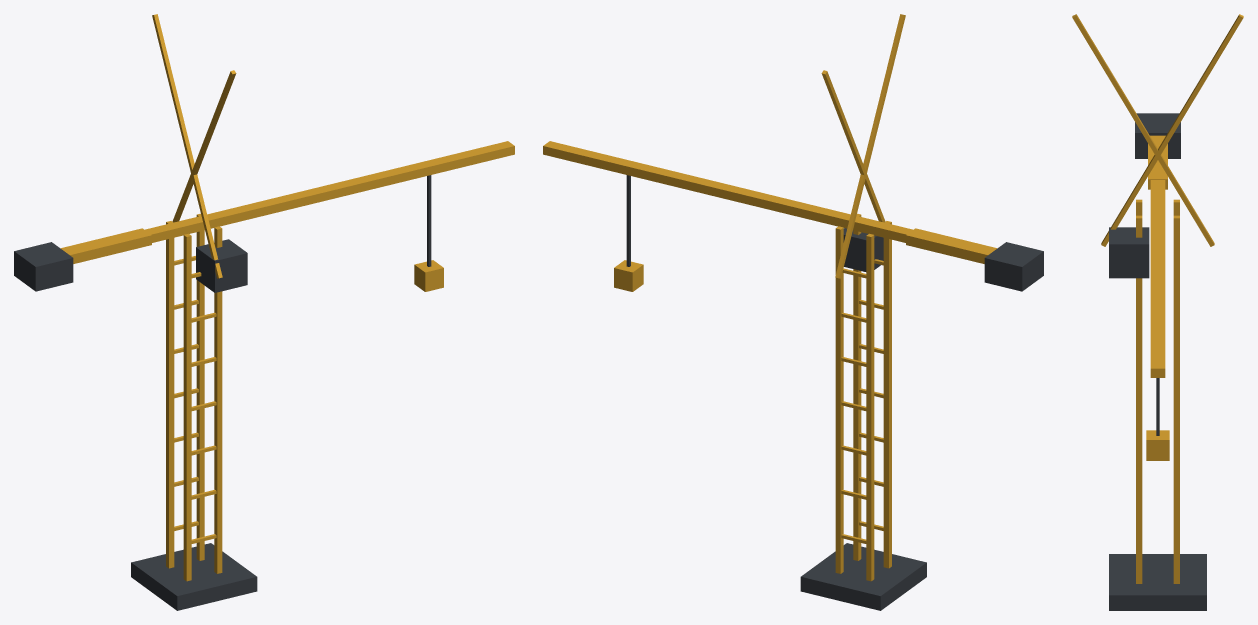
The model's file is crane.gltf.
The picture shows the model from 3 angles, left to right: view 1: azimuth 30°, elevation 25°; view 2: azimuth 150°, elevation 25°; view 3: azimuth 270°, elevation 25°; orthographic projection. The views are drawn at different scales.
Visible parts, largest first — view 1: crane; view 2: crane; view 3: crane.
Boxes of the visible parts, x1,y1,x2,y2 form: crane: (14,14,514,610); crane: (543,14,1043,610); crane: (1072,14,1243,610).
Bounding box in the file's own units: 20.7 × 22.03 × 5.93.
